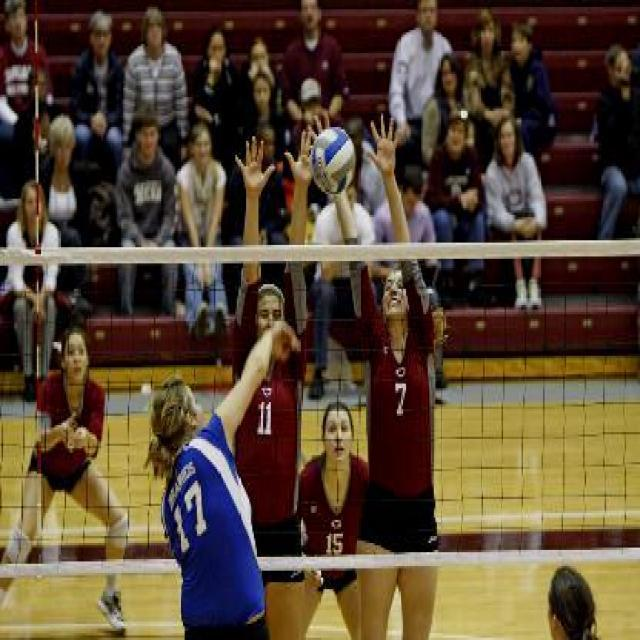volleyball: (310, 127, 356, 195)
